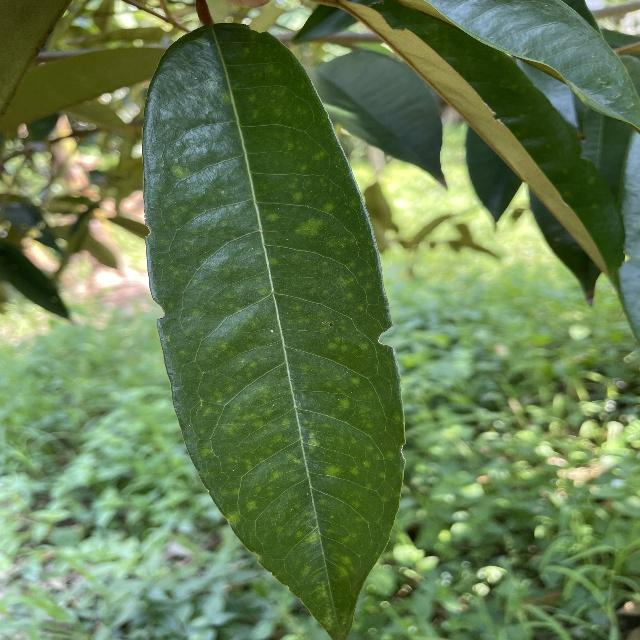Leaf Spot: (135, 13, 415, 640)
